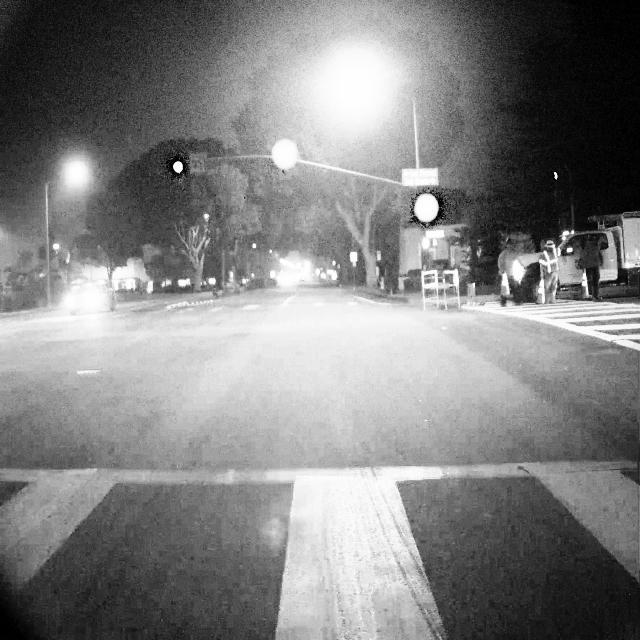Truck: (514, 211, 640, 299)
